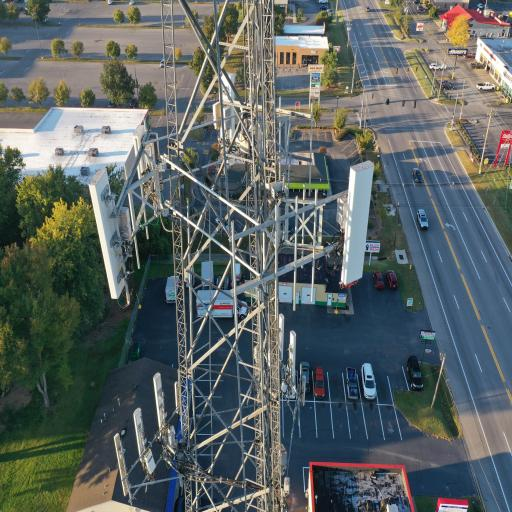supporting_tower: (92, 0, 378, 512)
